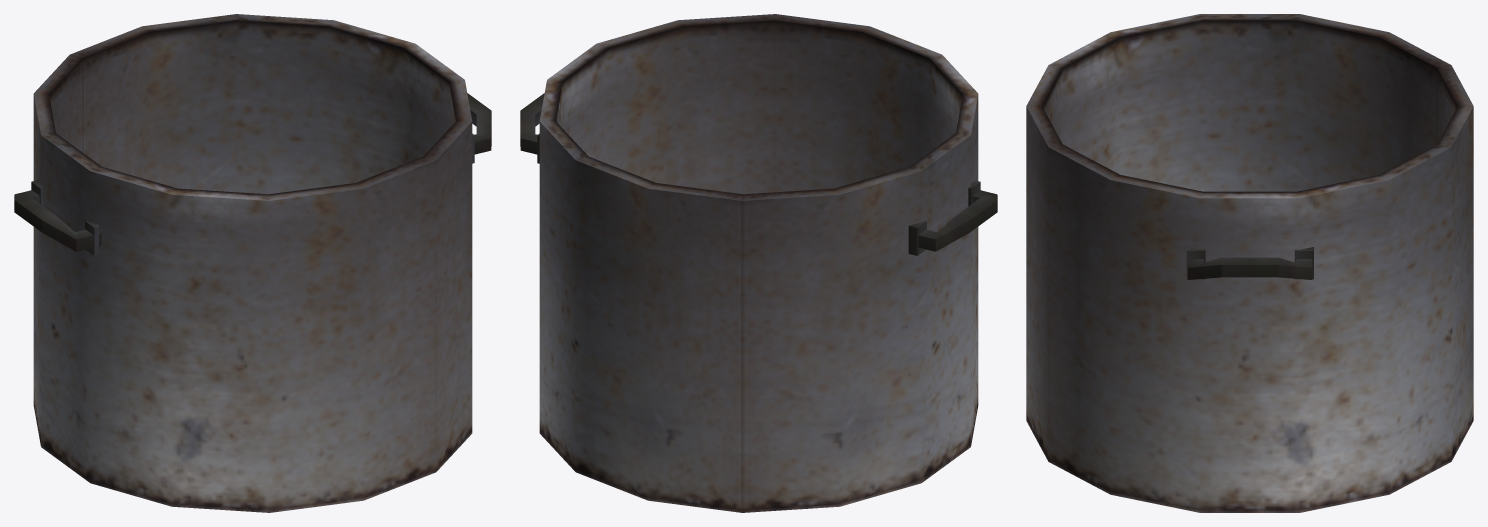
File: Pot.fbx
3 views of the same model, side by side, from view 1: azimuth 30°, elevation 25°; view 2: azimuth 150°, elevation 25°; view 3: azimuth 270°, elevation 25° (orthographic).
Parts seen in each view (by area): view 1: Pot; view 2: Pot; view 3: Pot.
Boxes of the visible parts, left/top/right/bottom form: Pot: left=14, top=14, right=491, bottom=512; Pot: left=520, top=14, right=997, bottom=512; Pot: left=1026, top=14, right=1473, bottom=512.
Size of the model in its own units: 0.1466 by 0.0972 by 0.1253.
